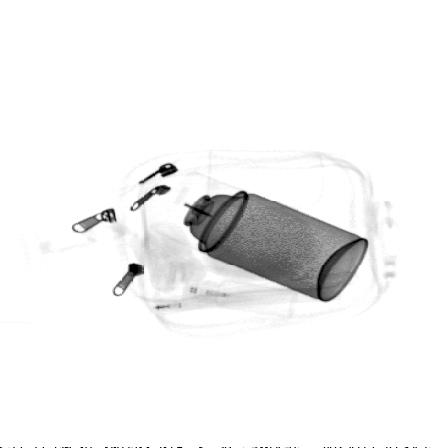Sprayer: (153, 170, 371, 304)
